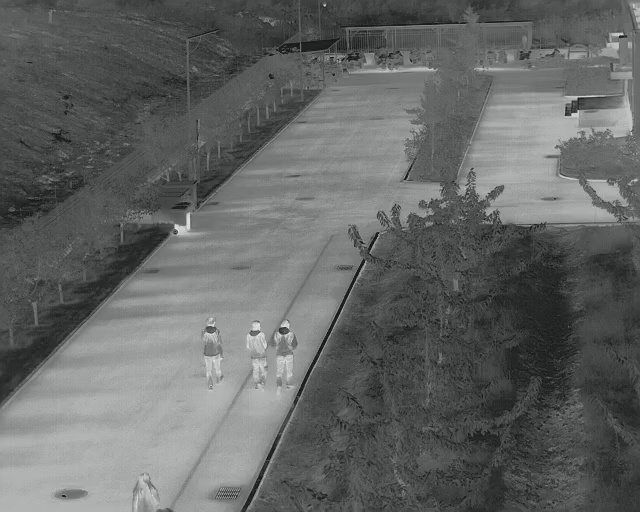person: (200, 317, 225, 389), (272, 320, 296, 392), (245, 319, 268, 391)
